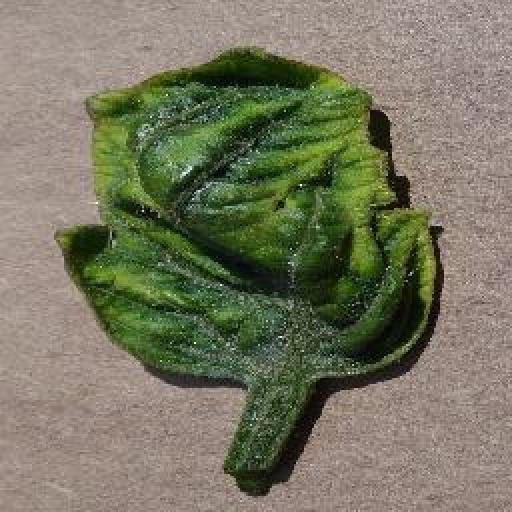disease_tomato: (52, 42, 441, 390)
